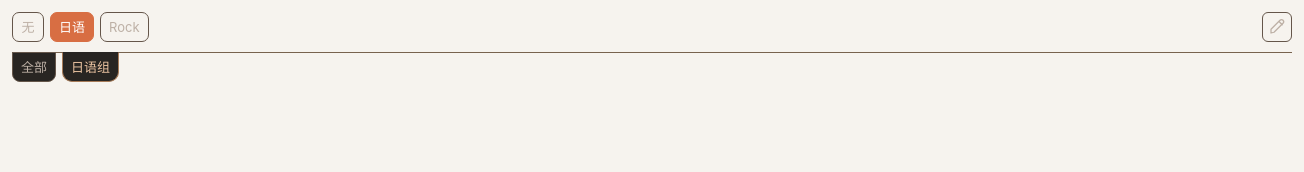
Test: edits tags in their original row, rejects overlong names and preserves failed drafts
Later steps or results of the test are not shown.
Click the button named "编辑标签和标签组" at (1277, 27), box [1262,12,1292,42]
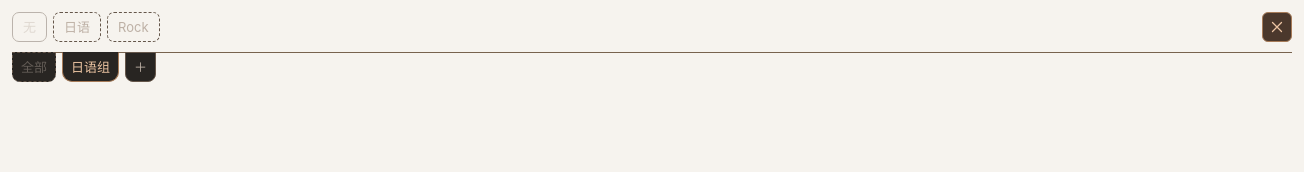
Expected: the element named "管理标签" is shown, [12,12,1292,42]
Click the button with aria-label "重命名标签 日语" at (77, 27), box [53,12,101,42]
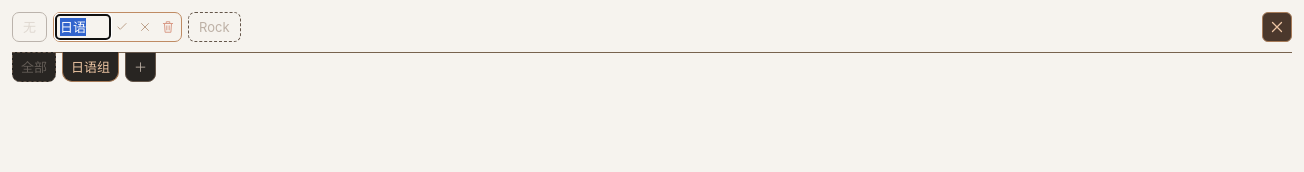
Replace the text in the field named "新标签名称" with "日文" at (83, 27), box [56,15,110,39]
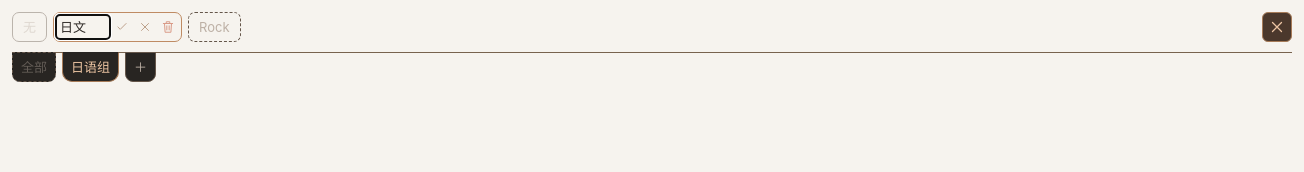
Click the button named "保存名称" at (122, 27), box [111,15,133,39]
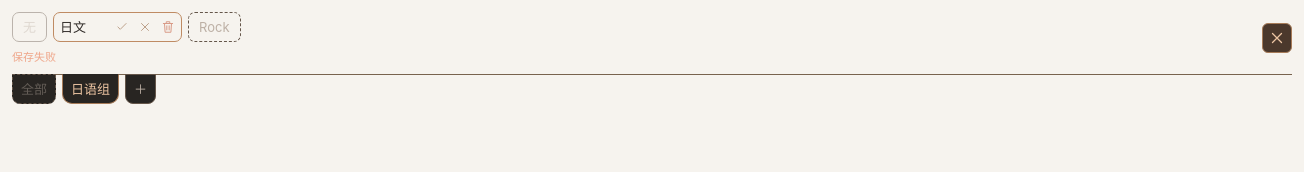
Expected: the message reads "保存失败", [12,50,56,64]
